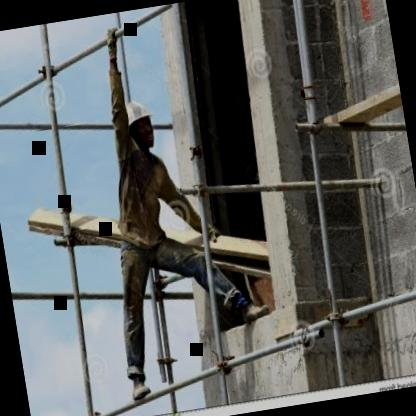helmet: (122, 96, 160, 153)
